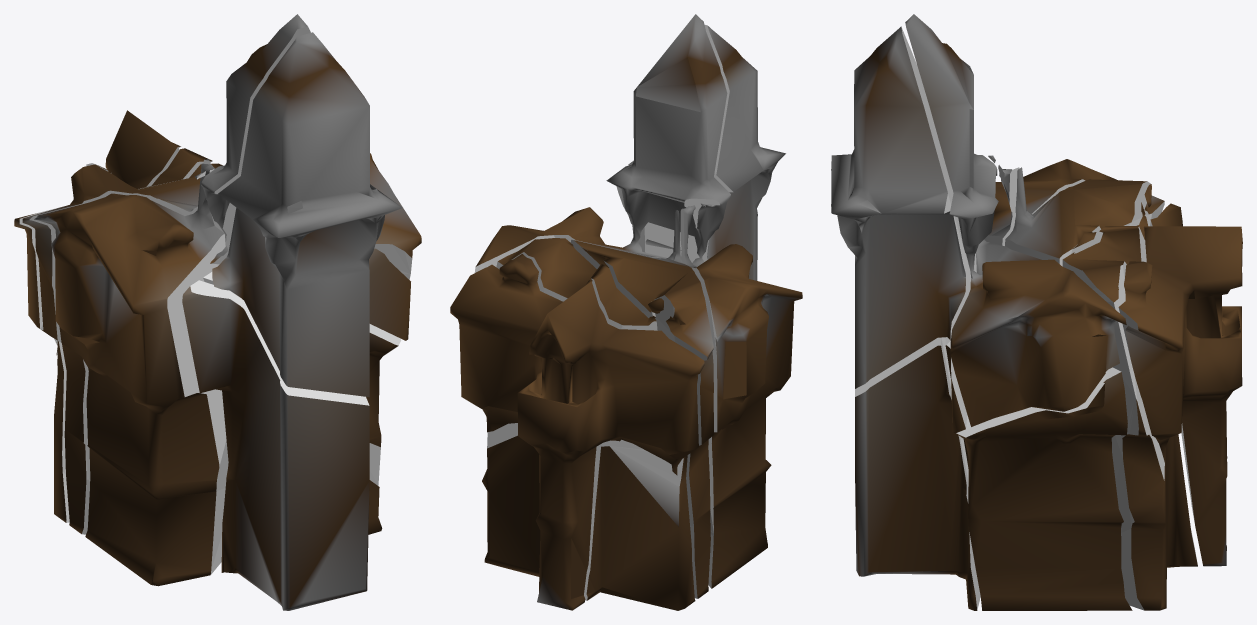
The model's file is Medieval Houses(3).glb.
3 renders of one model, left to right at view 1: azimuth 30°, elevation 25°; view 2: azimuth 150°, elevation 25°; view 3: azimuth 270°, elevation 25°, orthographic. The views are drawn at different scales.
Parts seen in each view (by area): view 1: Root, Root.004, Root.001, Root.006, Root.011, Root.009, Root.003, Root.007; view 2: Root.009, Root.003, Root, Root.011, Root.006, Root.004; view 3: Root.004, Root.011, Root.007, Root.009, Root.001, Root.003, Root.006, Root.
Part boxes in pixels (<box>): Root: <box>34,163,228,586</box>; Root.004: <box>212,32,410,397</box>; Root.001: <box>182,280,382,610</box>; Root.006: <box>22,159,226,534</box>; Root.011: <box>201,14,421,279</box>; Root.009: <box>14,110,180,355</box>; Root.003: <box>54,148,212,522</box>; Root.007: <box>203,272,401,485</box>; Root.009: <box>450,254,704,610</box>; Root.003: <box>482,238,695,610</box>; Root: <box>680,205,802,588</box>; Root.011: <box>474,14,730,272</box>; Root.006: <box>570,210,713,598</box>; Root.004: <box>628,25,785,280</box>; Root.004: <box>831,26,974,433</box>; Root.011: <box>905,14,1126,426</box>; Root.007: <box>945,253,1132,610</box>; Root.009: <box>1118,203,1242,566</box>; Root.001: <box>855,337,980,610</box>; Root.003: <box>1062,202,1197,610</box>; Root.006: <box>1005,167,1164,266</box>; Root: <box>984,159,1117,245</box>.
Bounding box in the file's own units: 8.87 × 15.59 × 10.69.
